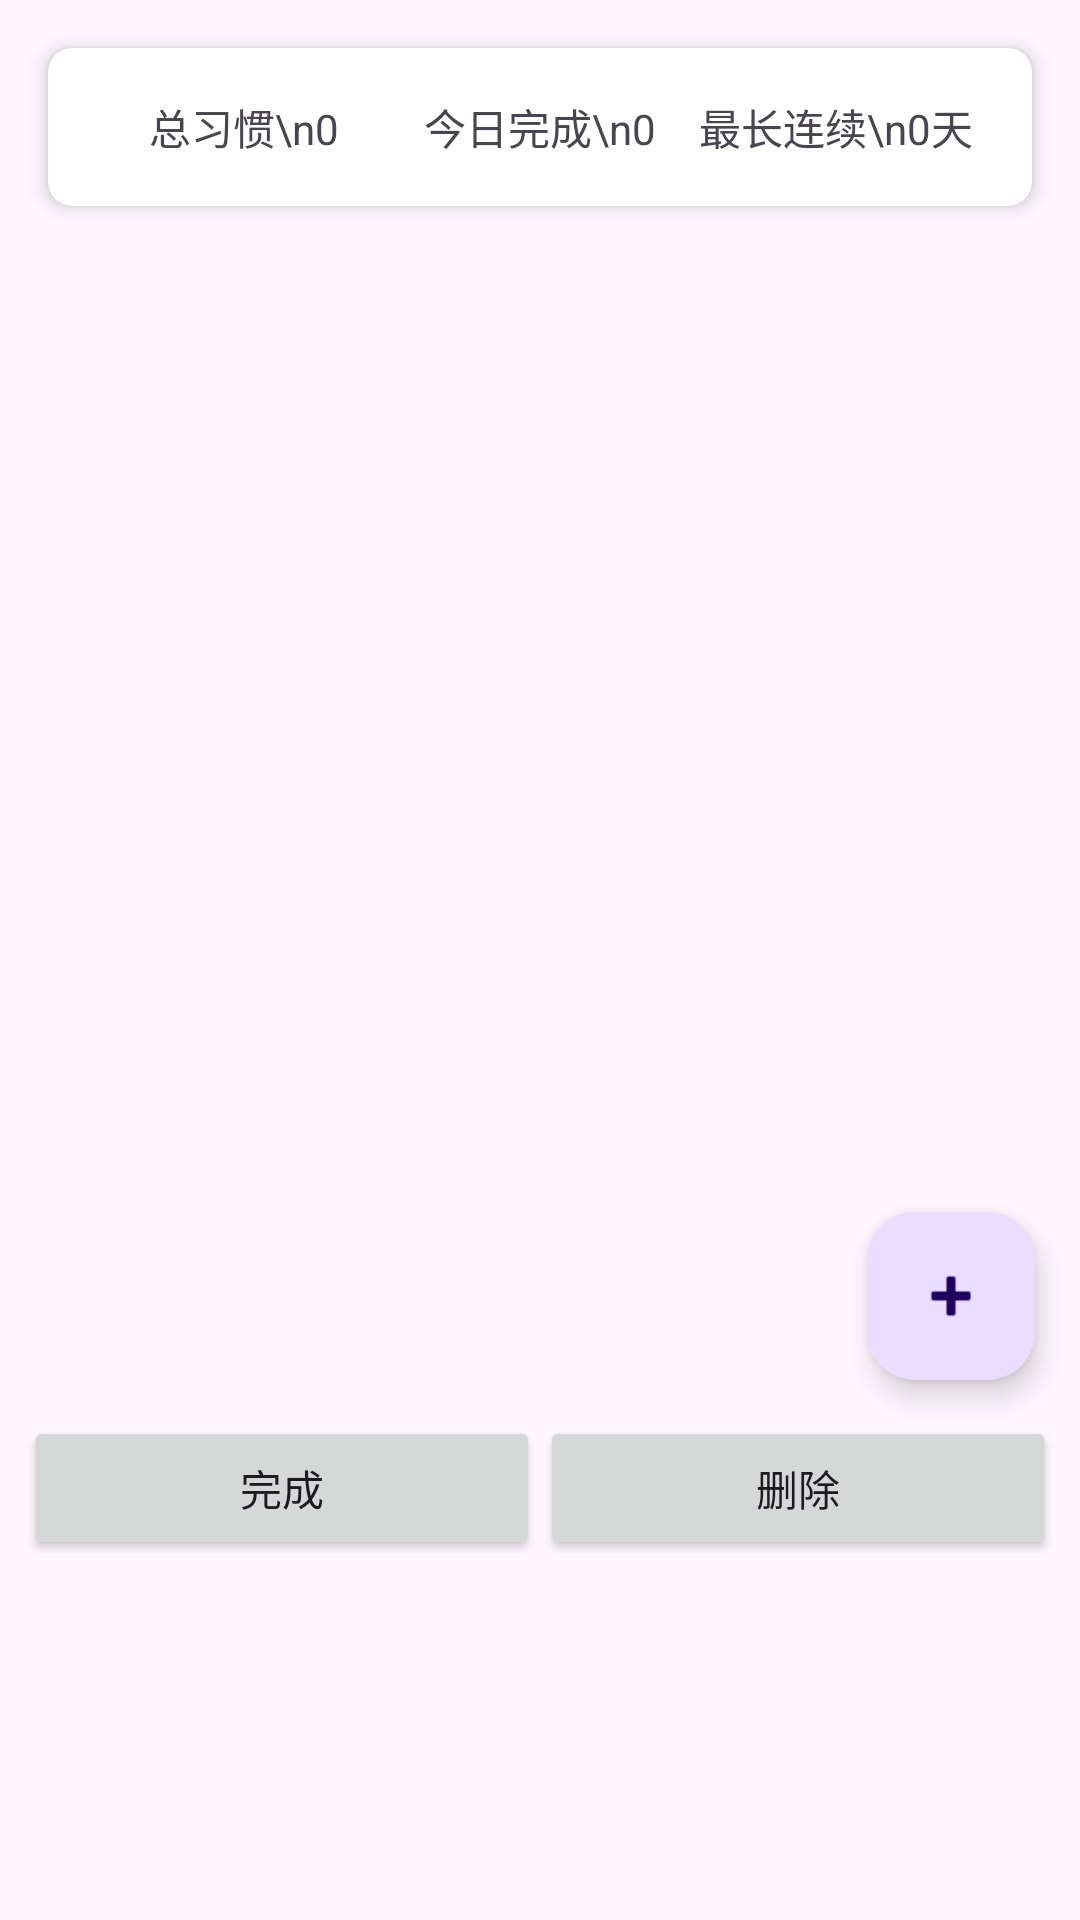

Where to tap for icons on this 1080w x 1920h app screen, as [x,y]:
add: [951,1296]
